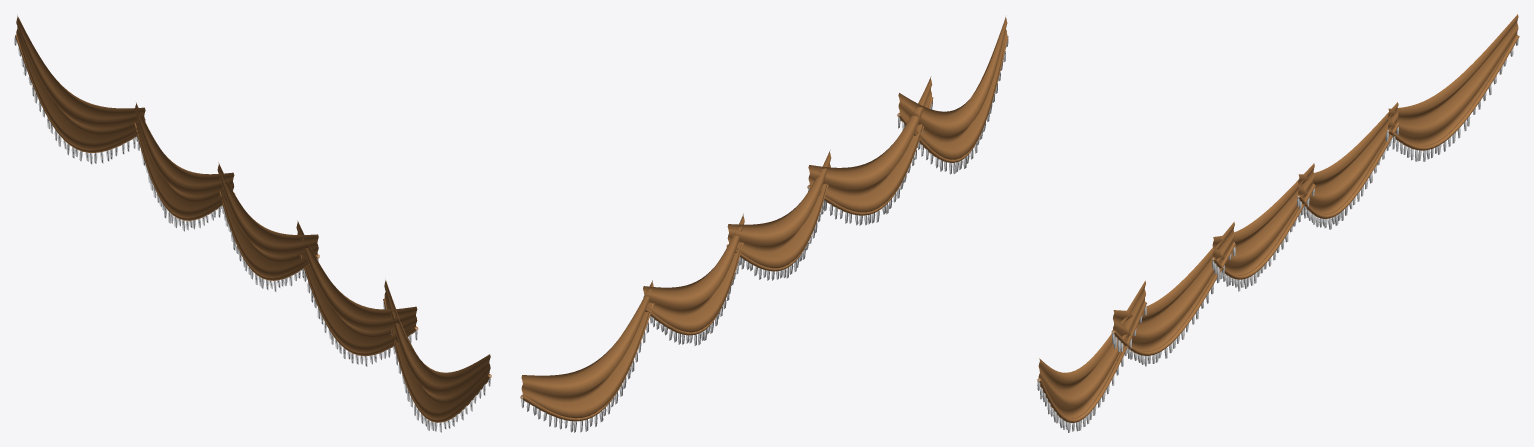
File: SM_Menu_Valance.fbx
3 renders of one model, left to right at view 1: azimuth 30°, elevation 25°; view 2: azimuth 150°, elevation 25°; view 3: azimuth 330°, elevation 25°, orthographic. The views are drawn at different scales.
Parts seen in each view (by area): view 1: SM_Menu_Valance; view 2: SM_Menu_Valance; view 3: SM_Menu_Valance.
Boxes of the visible parts, box(x1,y1,x2,y2) form: SM_Menu_Valance: box(14, 15, 491, 432); SM_Menu_Valance: box(520, 17, 1008, 432); SM_Menu_Valance: box(1037, 14, 1519, 432).
Size of the model in its own units: 21.24 by 1116 by 144.
